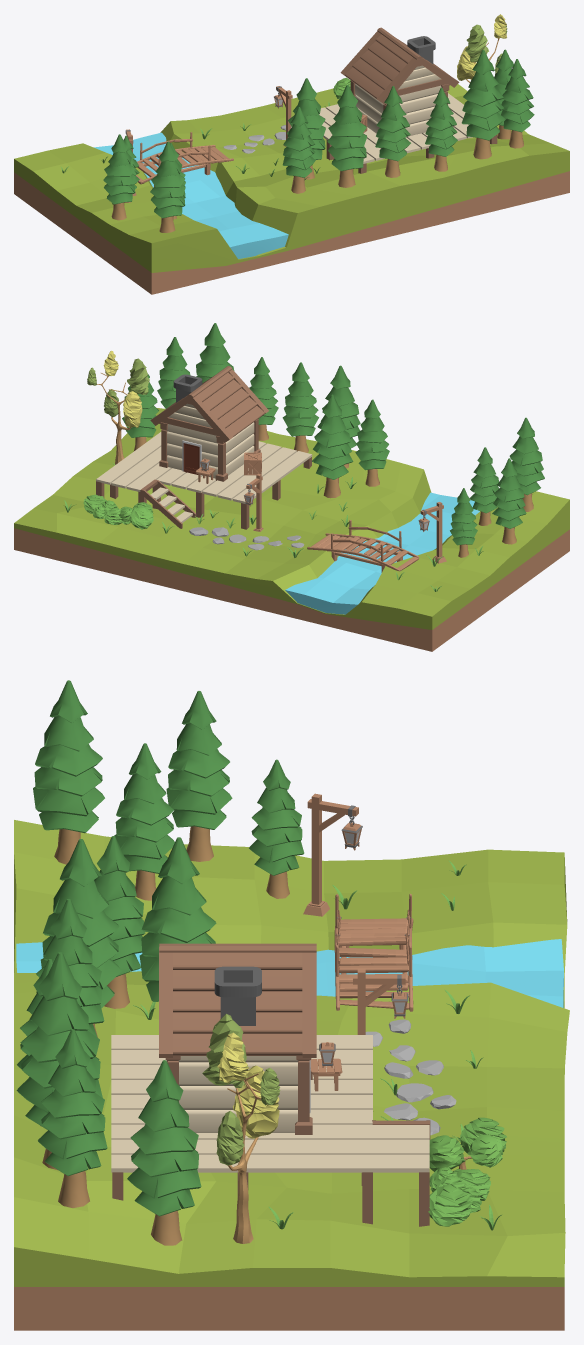
The model's file is SmallHouse.glb.
3 renders of one model, top to bottom at view 1: azimuth 30°, elevation 25°; view 2: azimuth 150°, elevation 25°; view 3: azimuth 270°, elevation 25°, orthographic. The views are drawn at different scales.
Visible parts, largest first — view 1: GroundColloder, Roof, River, Tree.007, Tree.001, Tree.009, Floor & stairs, Tree.004, Tree.008, Tree.003, Tree.011, Bridge (+6 smaller); view 2: GroundColloder, Roof, Floor & stairs, River, Tree, Tree.002, Bridge, Tree.004, Tree.003, Tree.009, Tree.011, Tree.010 (+12 smaller); view 3: GroundColloder, Roof, Floor & stairs, River, Tree.005, Tree.009, Tree.002, Tree.008, Tree.011, Tree.007, Bridge, Tree (+11 smaller).
Boxes of the visible parts, left/top/right/bottom form: GroundColloder: left=14, top=84, right=569, bottom=294; Roof: left=340, top=27, right=459, bottom=136; River: left=94, top=132, right=288, bottom=258; Tree.007: left=461, top=50, right=504, bottom=159; Tree.001: left=327, top=85, right=366, bottom=187; Tree.009: left=150, top=141, right=185, bottom=232; Floor & stairs: left=319, top=93, right=497, bottom=173; Tree.004: left=375, top=86, right=410, bottom=177; Tree.008: left=501, top=59, right=534, bottom=148; Tree.003: left=282, top=107, right=315, bottom=193; Tree.011: left=103, top=134, right=135, bottom=220; Bridge: left=136, top=132, right=233, bottom=186; GroundColloder: left=14, top=408, right=569, bottom=651; Roof: left=150, top=366, right=268, bottom=481; Floor & stairs: left=96, top=432, right=312, bottom=529; River: left=285, top=492, right=479, bottom=614; Tree: left=312, top=395, right=353, bottom=498; Tree.002: left=87, top=350, right=149, bottom=464; Bridge: left=307, top=520, right=419, bottom=572; Tree.004: left=282, top=362, right=318, bottom=452; Tree.003: left=355, top=399, right=389, bottom=486; Tree.009: left=509, top=417, right=544, bottom=511; Tree.011: left=492, top=458, right=526, bottom=544; Tree.010: left=469, top=447, right=498, bottom=525; GroundColloder: left=14, top=820, right=569, bottom=1330; Roof: left=159, top=943, right=316, bottom=1134; Floor & stairs: left=111, top=1035, right=430, bottom=1226; River: left=16, top=939, right=563, bottom=1007; Tree.005: left=127, top=1060, right=201, bottom=1245; Tree.009: left=33, top=680, right=104, bottom=864; Tree.002: left=202, top=1014, right=280, bottom=1243; Tree.008: left=38, top=1029, right=107, bottom=1207; Tree.011: left=166, top=691, right=232, bottom=861; Tree.007: left=16, top=952, right=102, bottom=1170; Bridge: left=334, top=893, right=413, bottom=1011; Tree: left=139, top=837, right=216, bottom=1001.
Size of what is drawn, in the model's own units: 36.86 by 12.81 by 21.2.
